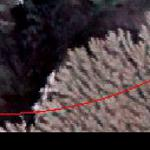alive: (1, 4, 149, 131)
